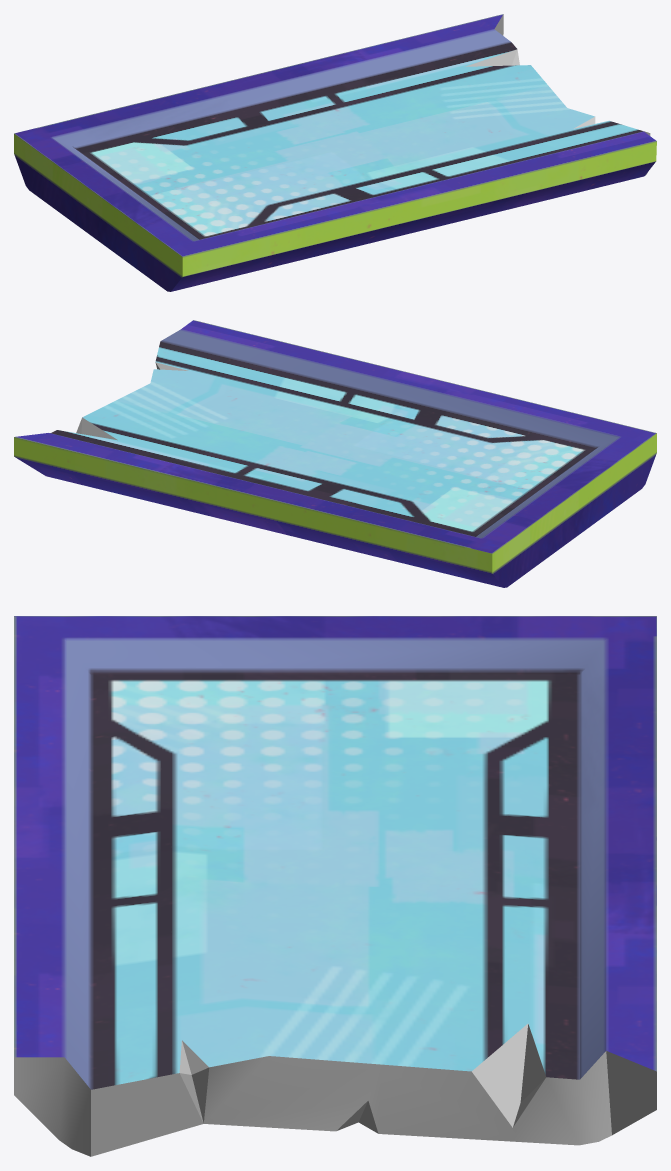
Rendered from SM_Platform10x48_Cassé_01.fbx.
3 renders of one model, top to bottom at view 1: azimuth 30°, elevation 25°; view 2: azimuth 150°, elevation 25°; view 3: azimuth 270°, elevation 25°, orthographic. The views are drawn at different scales.
Visible parts, largest first — view 1: SM_Platform10x48_Cassé_01; view 2: SM_Platform10x48_Cassé_01; view 3: SM_Platform10x48_Cassé_01.
Part boxes in pixels (x1,y1,x2,y2): SM_Platform10x48_Cassé_01: [14, 14, 656, 291]; SM_Platform10x48_Cassé_01: [14, 320, 656, 587]; SM_Platform10x48_Cassé_01: [14, 616, 656, 1156].
Bounding box in the file's own units: 6.71 × 0.6 × 4.
